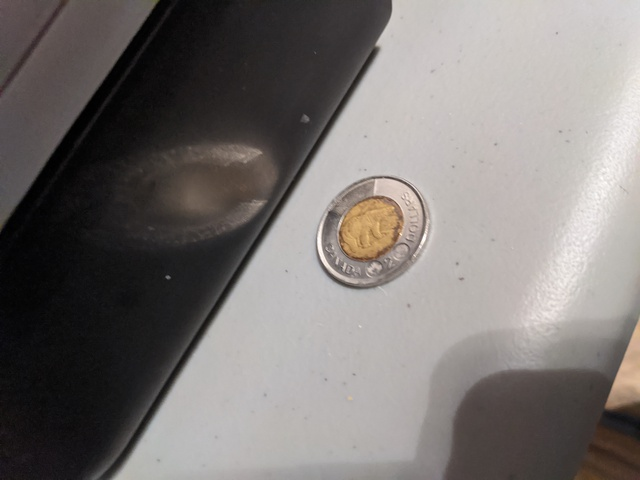twonie: (307, 177, 441, 293)
